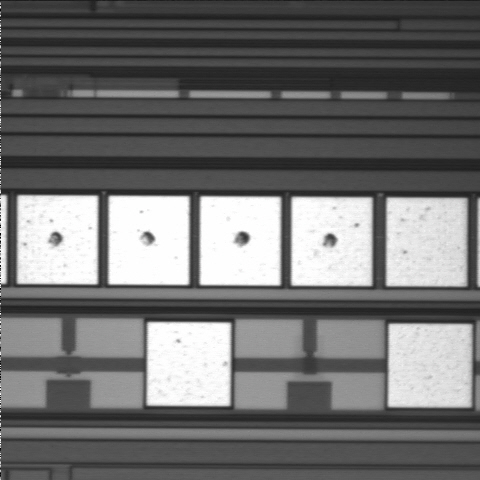pad: (17, 195, 98, 284), (108, 196, 189, 285), (200, 196, 281, 285), (291, 197, 372, 286), (386, 198, 467, 286), (147, 322, 231, 406), (388, 324, 472, 407)
